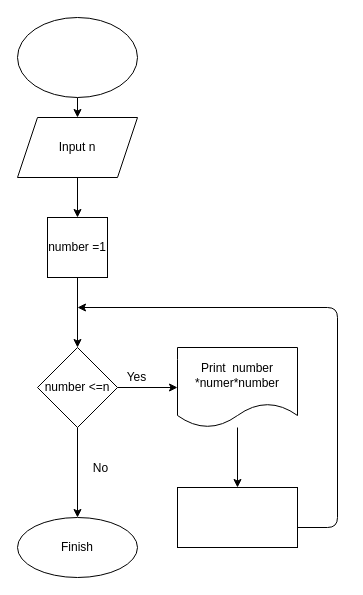
The diagram is 363 pixels wide and 595 high, and some of its shapes have lost their labels. The shapes that lost their labels are listed below. From the top down, each one's centre as x and y in pixels, then its label:
At point 77,57: "Start".
At point 237,517: "number++".
